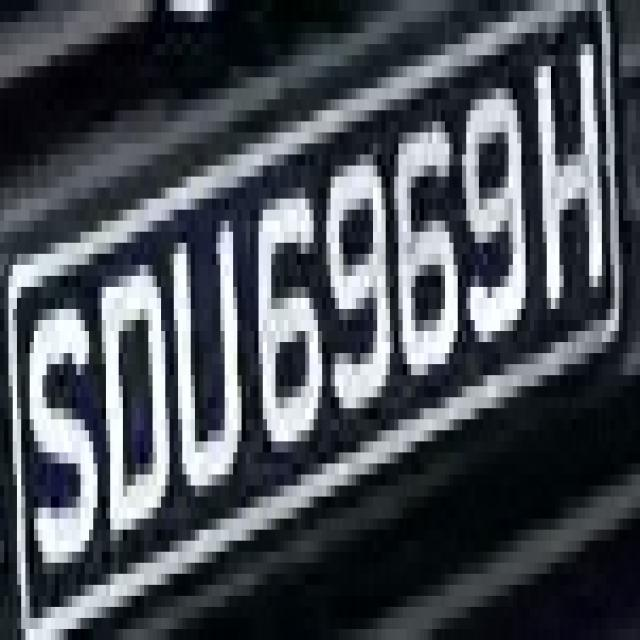6: (246, 177, 330, 486), (390, 77, 462, 397)
9: (445, 44, 526, 397), (314, 121, 390, 442)
D: (94, 220, 166, 562)
H: (534, 44, 615, 342)
S: (21, 265, 98, 607)
U: (174, 165, 254, 508)
